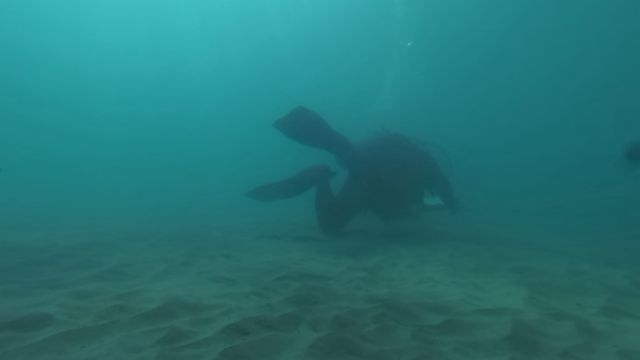Diver: (230, 93, 466, 241)
